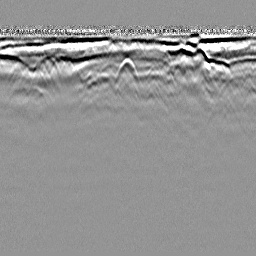cavity: (114, 54, 145, 85)
